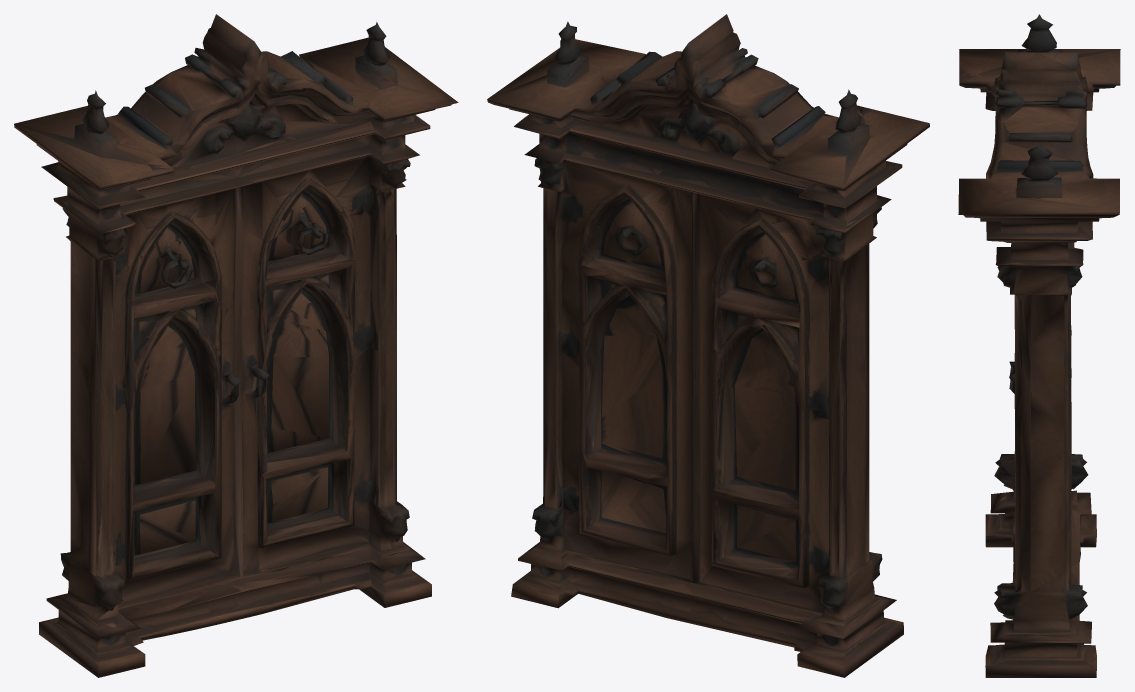
Rendered from wardrobe.glb.
The picture shows the model from 3 angles, left to right: view 1: azimuth 30°, elevation 25°; view 2: azimuth 150°, elevation 25°; view 3: azimuth 270°, elevation 25°; orthographic projection. The views are drawn at different scales.
Visible parts, largest first — view 1: wardrobe; view 2: wardrobe; view 3: wardrobe.
Part boxes in pixels (<box>): wardrobe: <box>14,14,458,677</box>; wardrobe: <box>487,14,929,677</box>; wardrobe: <box>958,14,1120,677</box>.
Bounding box in the file's own units: 1.4 × 2.2 × 0.5875.
Materials: 1 (1 with a texture image).
